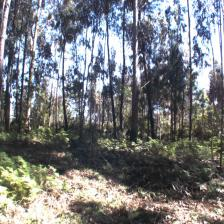trunktrack_idkeyframe: (130, 43, 139, 142), (24, 73, 33, 129), (109, 89, 118, 139), (61, 80, 69, 130), (4, 78, 10, 132), (147, 100, 155, 138), (188, 96, 194, 141), (119, 95, 124, 130)
